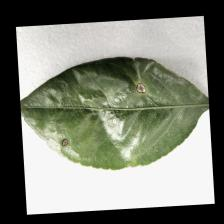canker: (48, 77, 161, 149)
